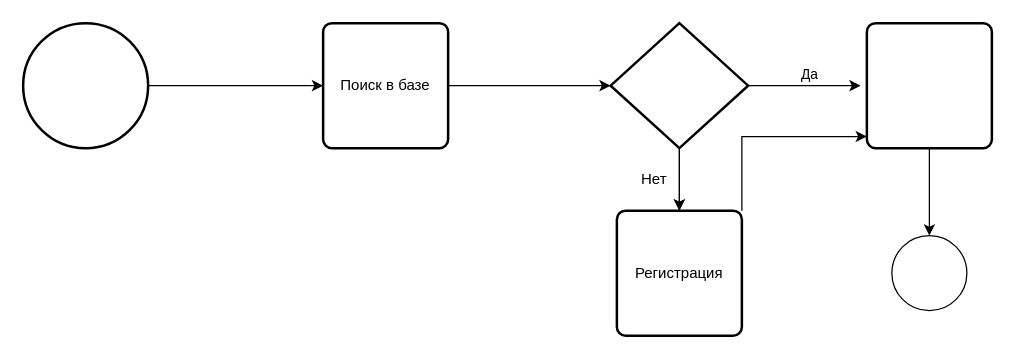
Image size: 1014x358. Some labels were removed from this diagram. Here are the shapes that lost their labels. From the top down, the box of each, then its label:
(609, 21, 749, 149): Карта найдена?
(865, 21, 992, 149): Открытие карты
